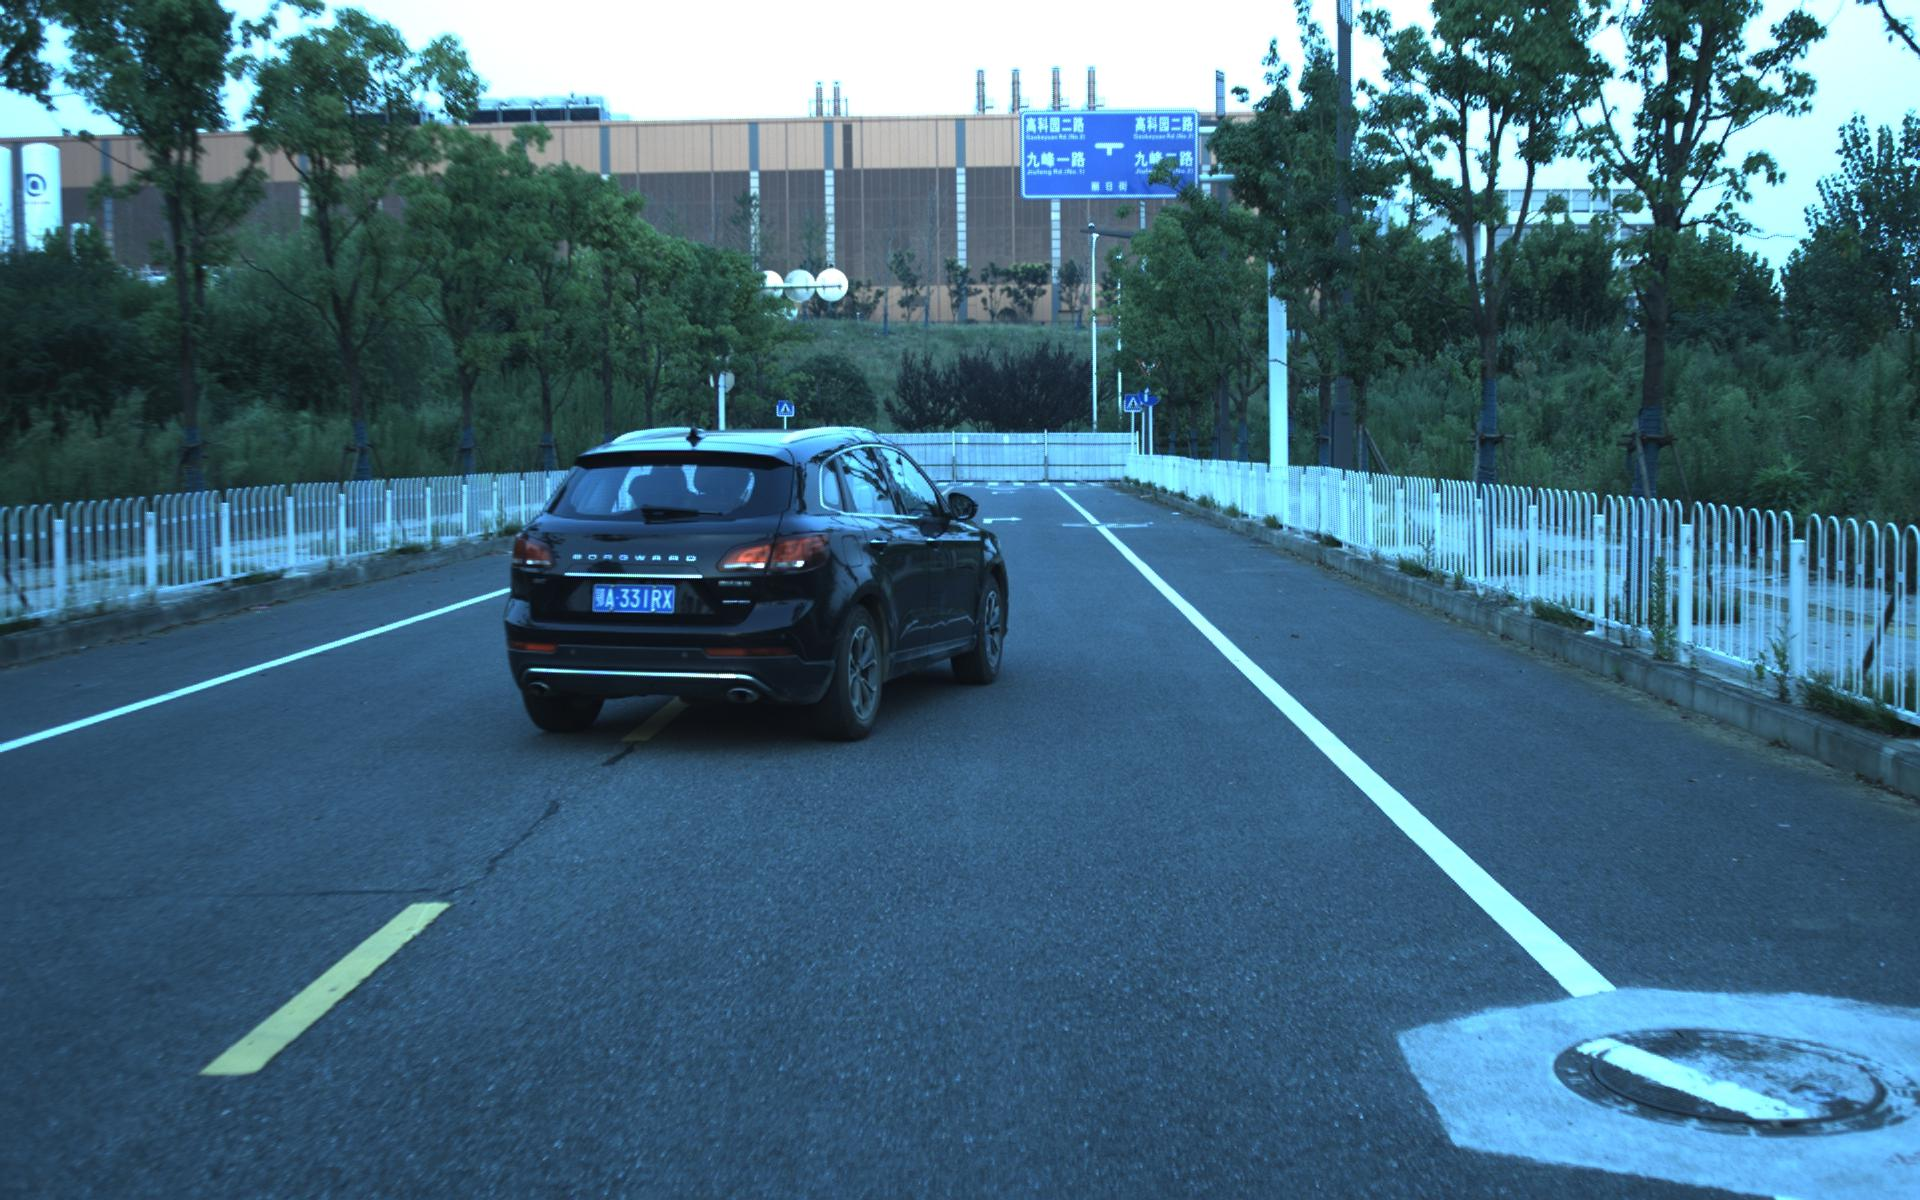Car: (482, 411, 1009, 753)
